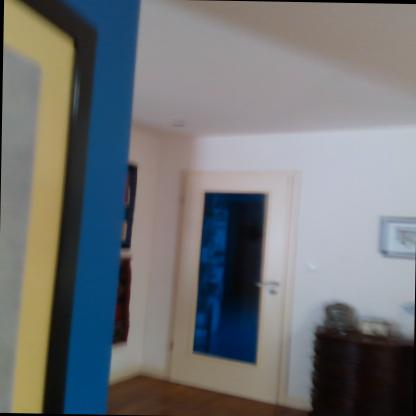closed: (158, 155, 310, 402)
